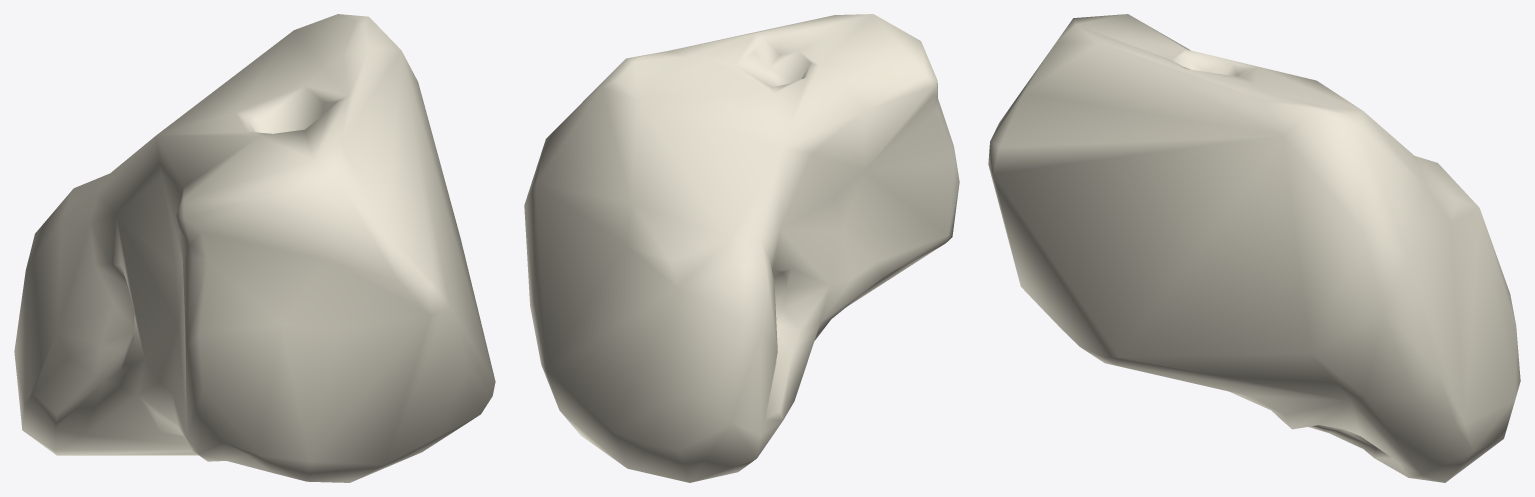
The picture shows the model from 3 angles, left to right: view 1: azimuth 30°, elevation 25°; view 2: azimuth 150°, elevation 25°; view 3: azimuth 270°, elevation 25°; orthographic projection. The views are drawn at different scales.
Visible parts, largest first — view 1: ZA_7d4e33b05b4fed7c; view 2: ZA_7d4e33b05b4fed7c; view 3: ZA_7d4e33b05b4fed7c.
Boxes of the visible parts, <box> form: ZA_7d4e33b05b4fed7c: <box>14,14,495,482</box>; ZA_7d4e33b05b4fed7c: <box>524,14,959,482</box>; ZA_7d4e33b05b4fed7c: <box>988,14,1520,482</box>.
Size of the model in its own units: 0.0117 by 0.0131 by 0.0155.
